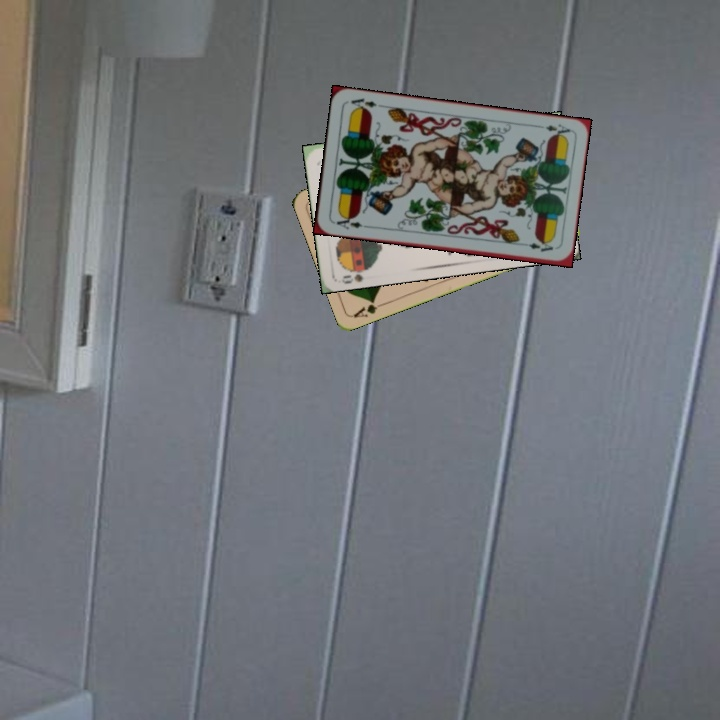EA: (330, 212, 370, 232), (533, 120, 573, 139)
GA: (350, 296, 389, 320)
SO: (337, 262, 374, 286)
